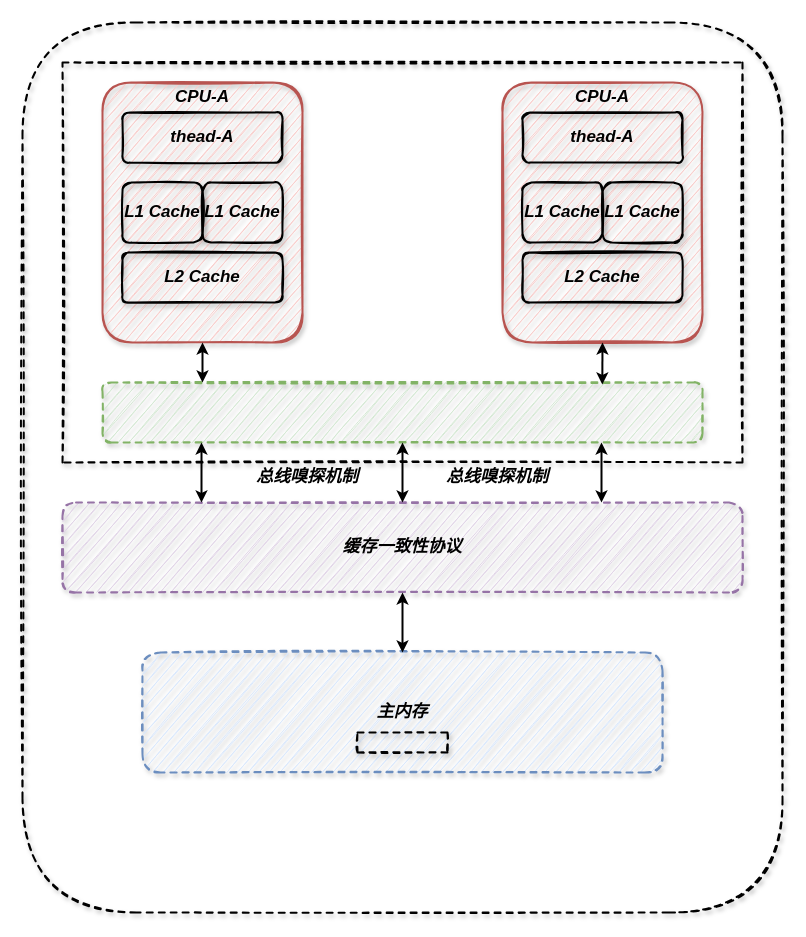
This 806x937 diagram has some shape labels left out. Each missing label, with the centre of its shape:
data: [403,743]
L3 Cache: [403,413]
